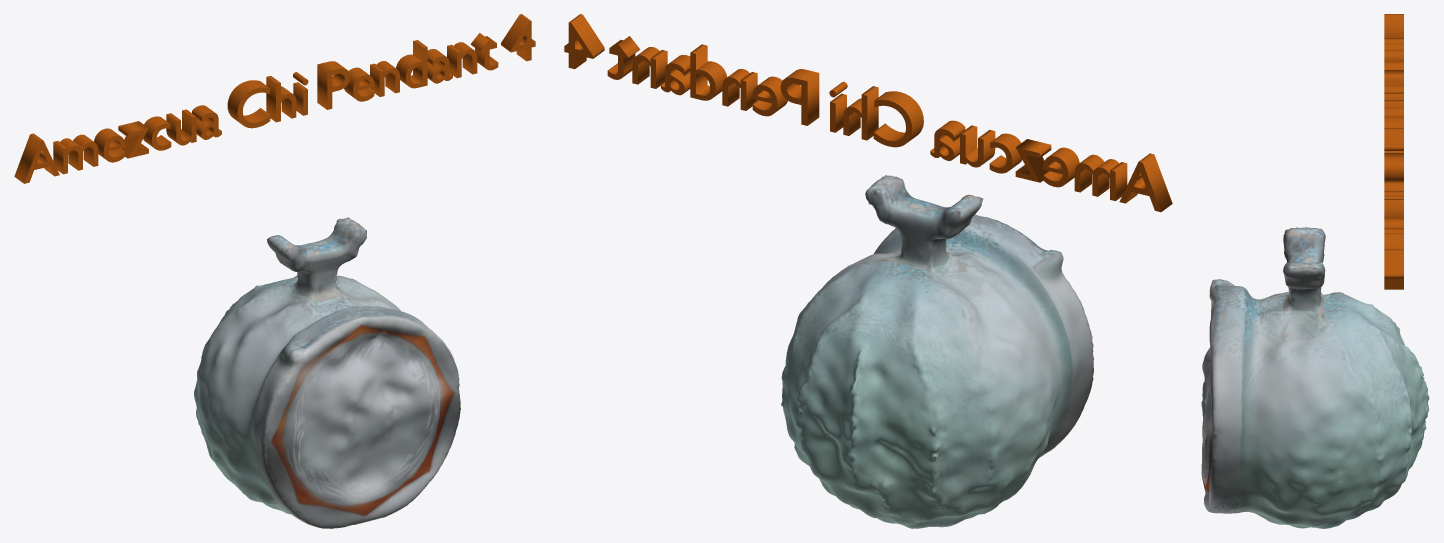
The picture shows the model from 3 angles, left to right: view 1: azimuth 30°, elevation 25°; view 2: azimuth 150°, elevation 25°; view 3: azimuth 270°, elevation 25°; orthographic projection. The views are drawn at different scales.
Parts seen in each view (by area): view 1: Mesh_0, wellness1; view 2: Mesh_0, wellness1; view 3: Mesh_0, wellness1.
Boxes of the visible parts, x1,y1,x2,y2 form: Mesh_0: (194,217,460,528); wellness1: (14,14,535,183); Mesh_0: (781,175,1093,528); wellness1: (564,14,1172,212); Mesh_0: (1201,227,1429,528); wellness1: (1384,14,1403,289).
Size of the model in its own units: 2.38 by 1.73 by 0.9292.
2 materials, 1 textured.
